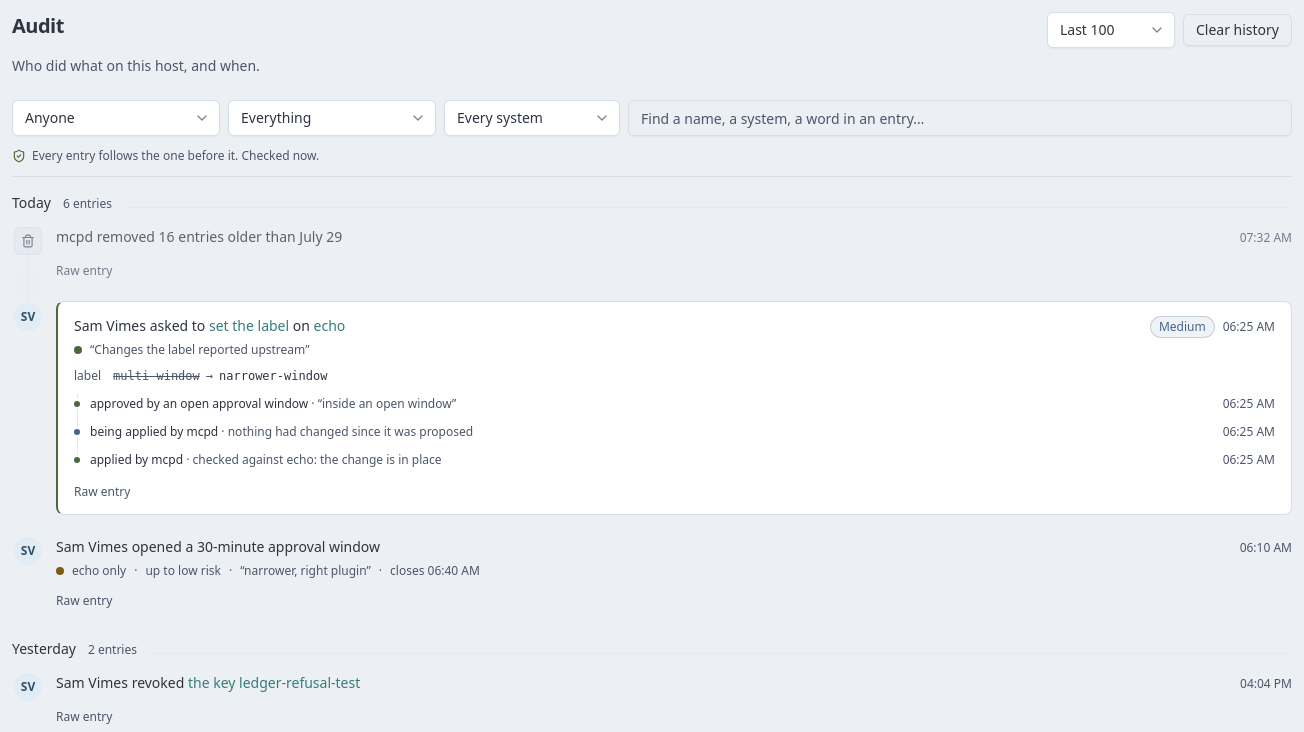
Test case: the audit trail › says what to do when a filter matches nothing
The width and height of the screenshot is (1304, 732).
Check: the text "Today" is shown, box [12, 193, 51, 213]
Type "nothing at all" into the field with placeholder "Find a name, a system, a word in an entry…". click: (960, 118)
box: [628, 100, 1292, 136]
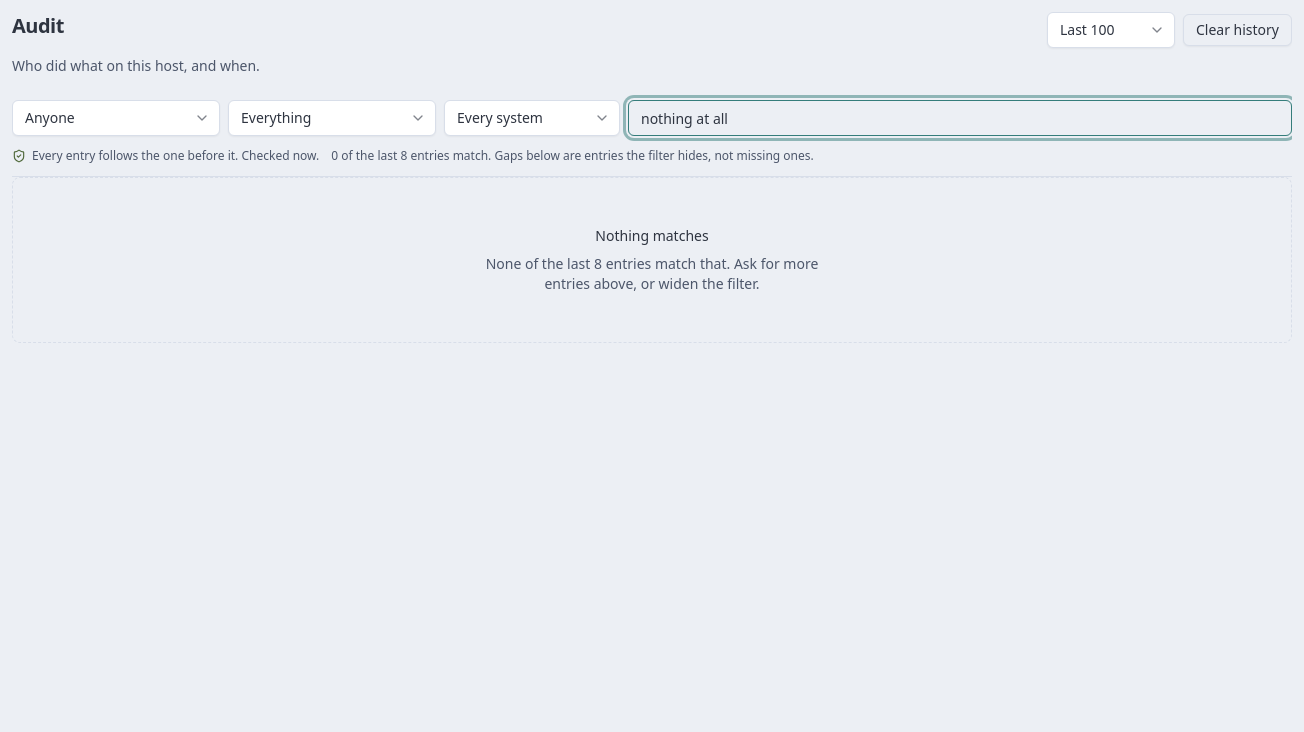
Check: the heading "Nothing matches" is shown, box [595, 226, 709, 246]
